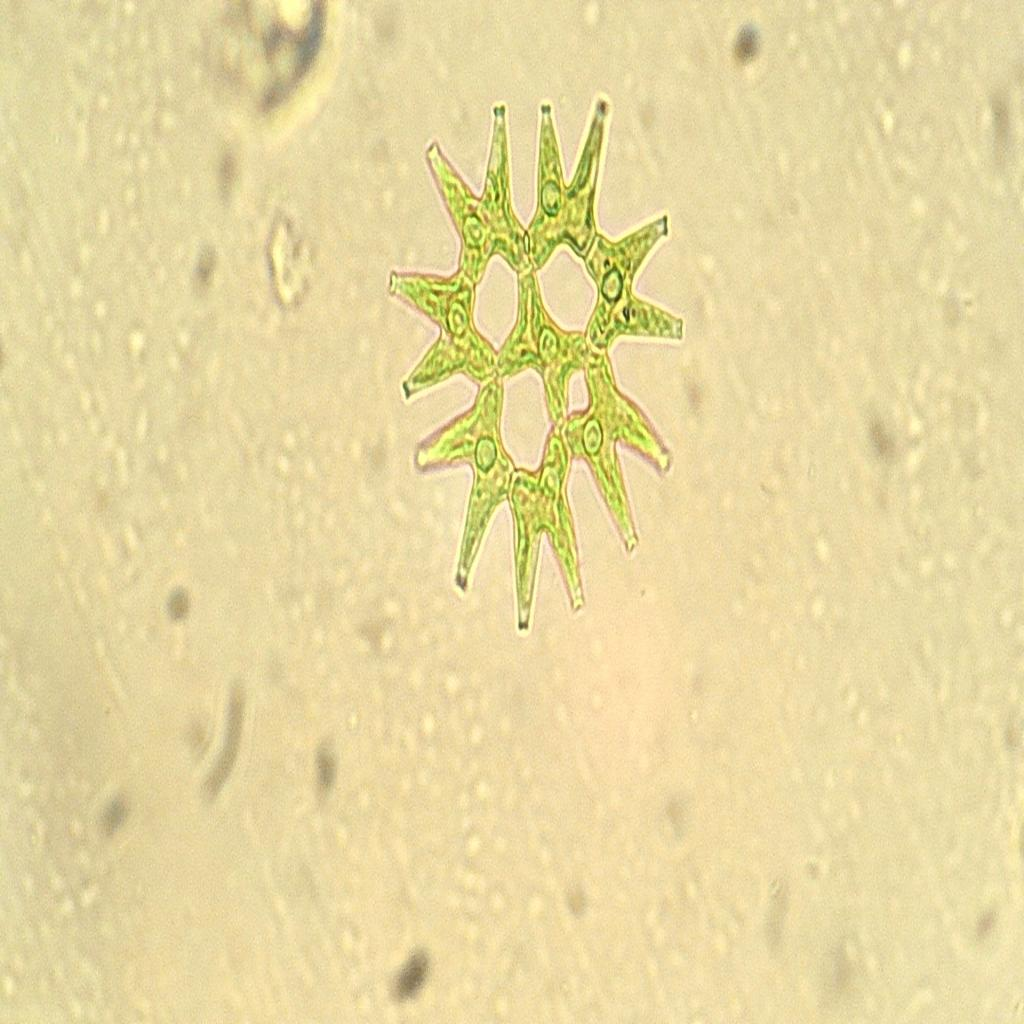Pediastrum_75T: (376, 61, 705, 638)
